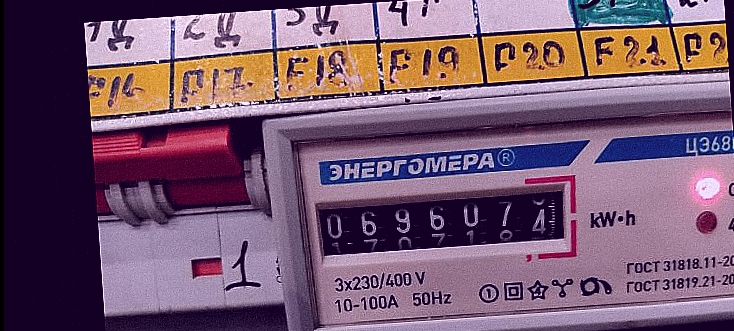0: (325, 209, 346, 239), (460, 199, 481, 227)
4: (529, 206, 549, 235)
6: (359, 208, 379, 236), (428, 201, 447, 230)
7: (495, 196, 516, 227)
9: (393, 205, 413, 235)
screen: (302, 170, 587, 276)
